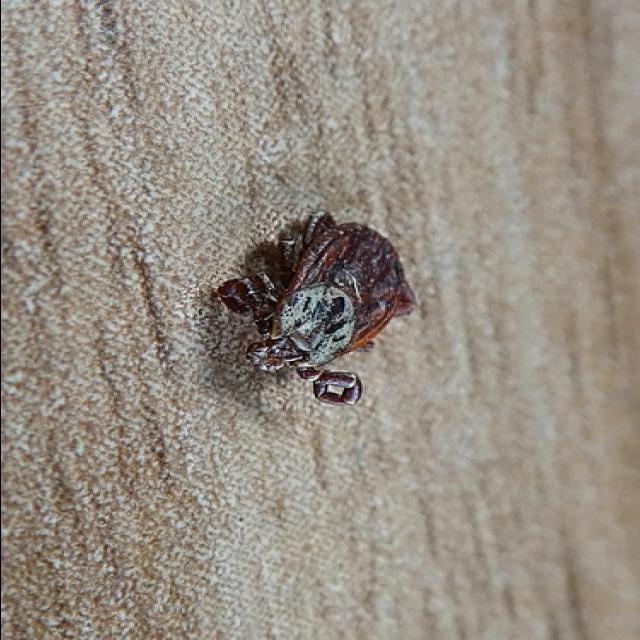Dermacentor Reticulatus-F: (213, 210, 413, 404)
